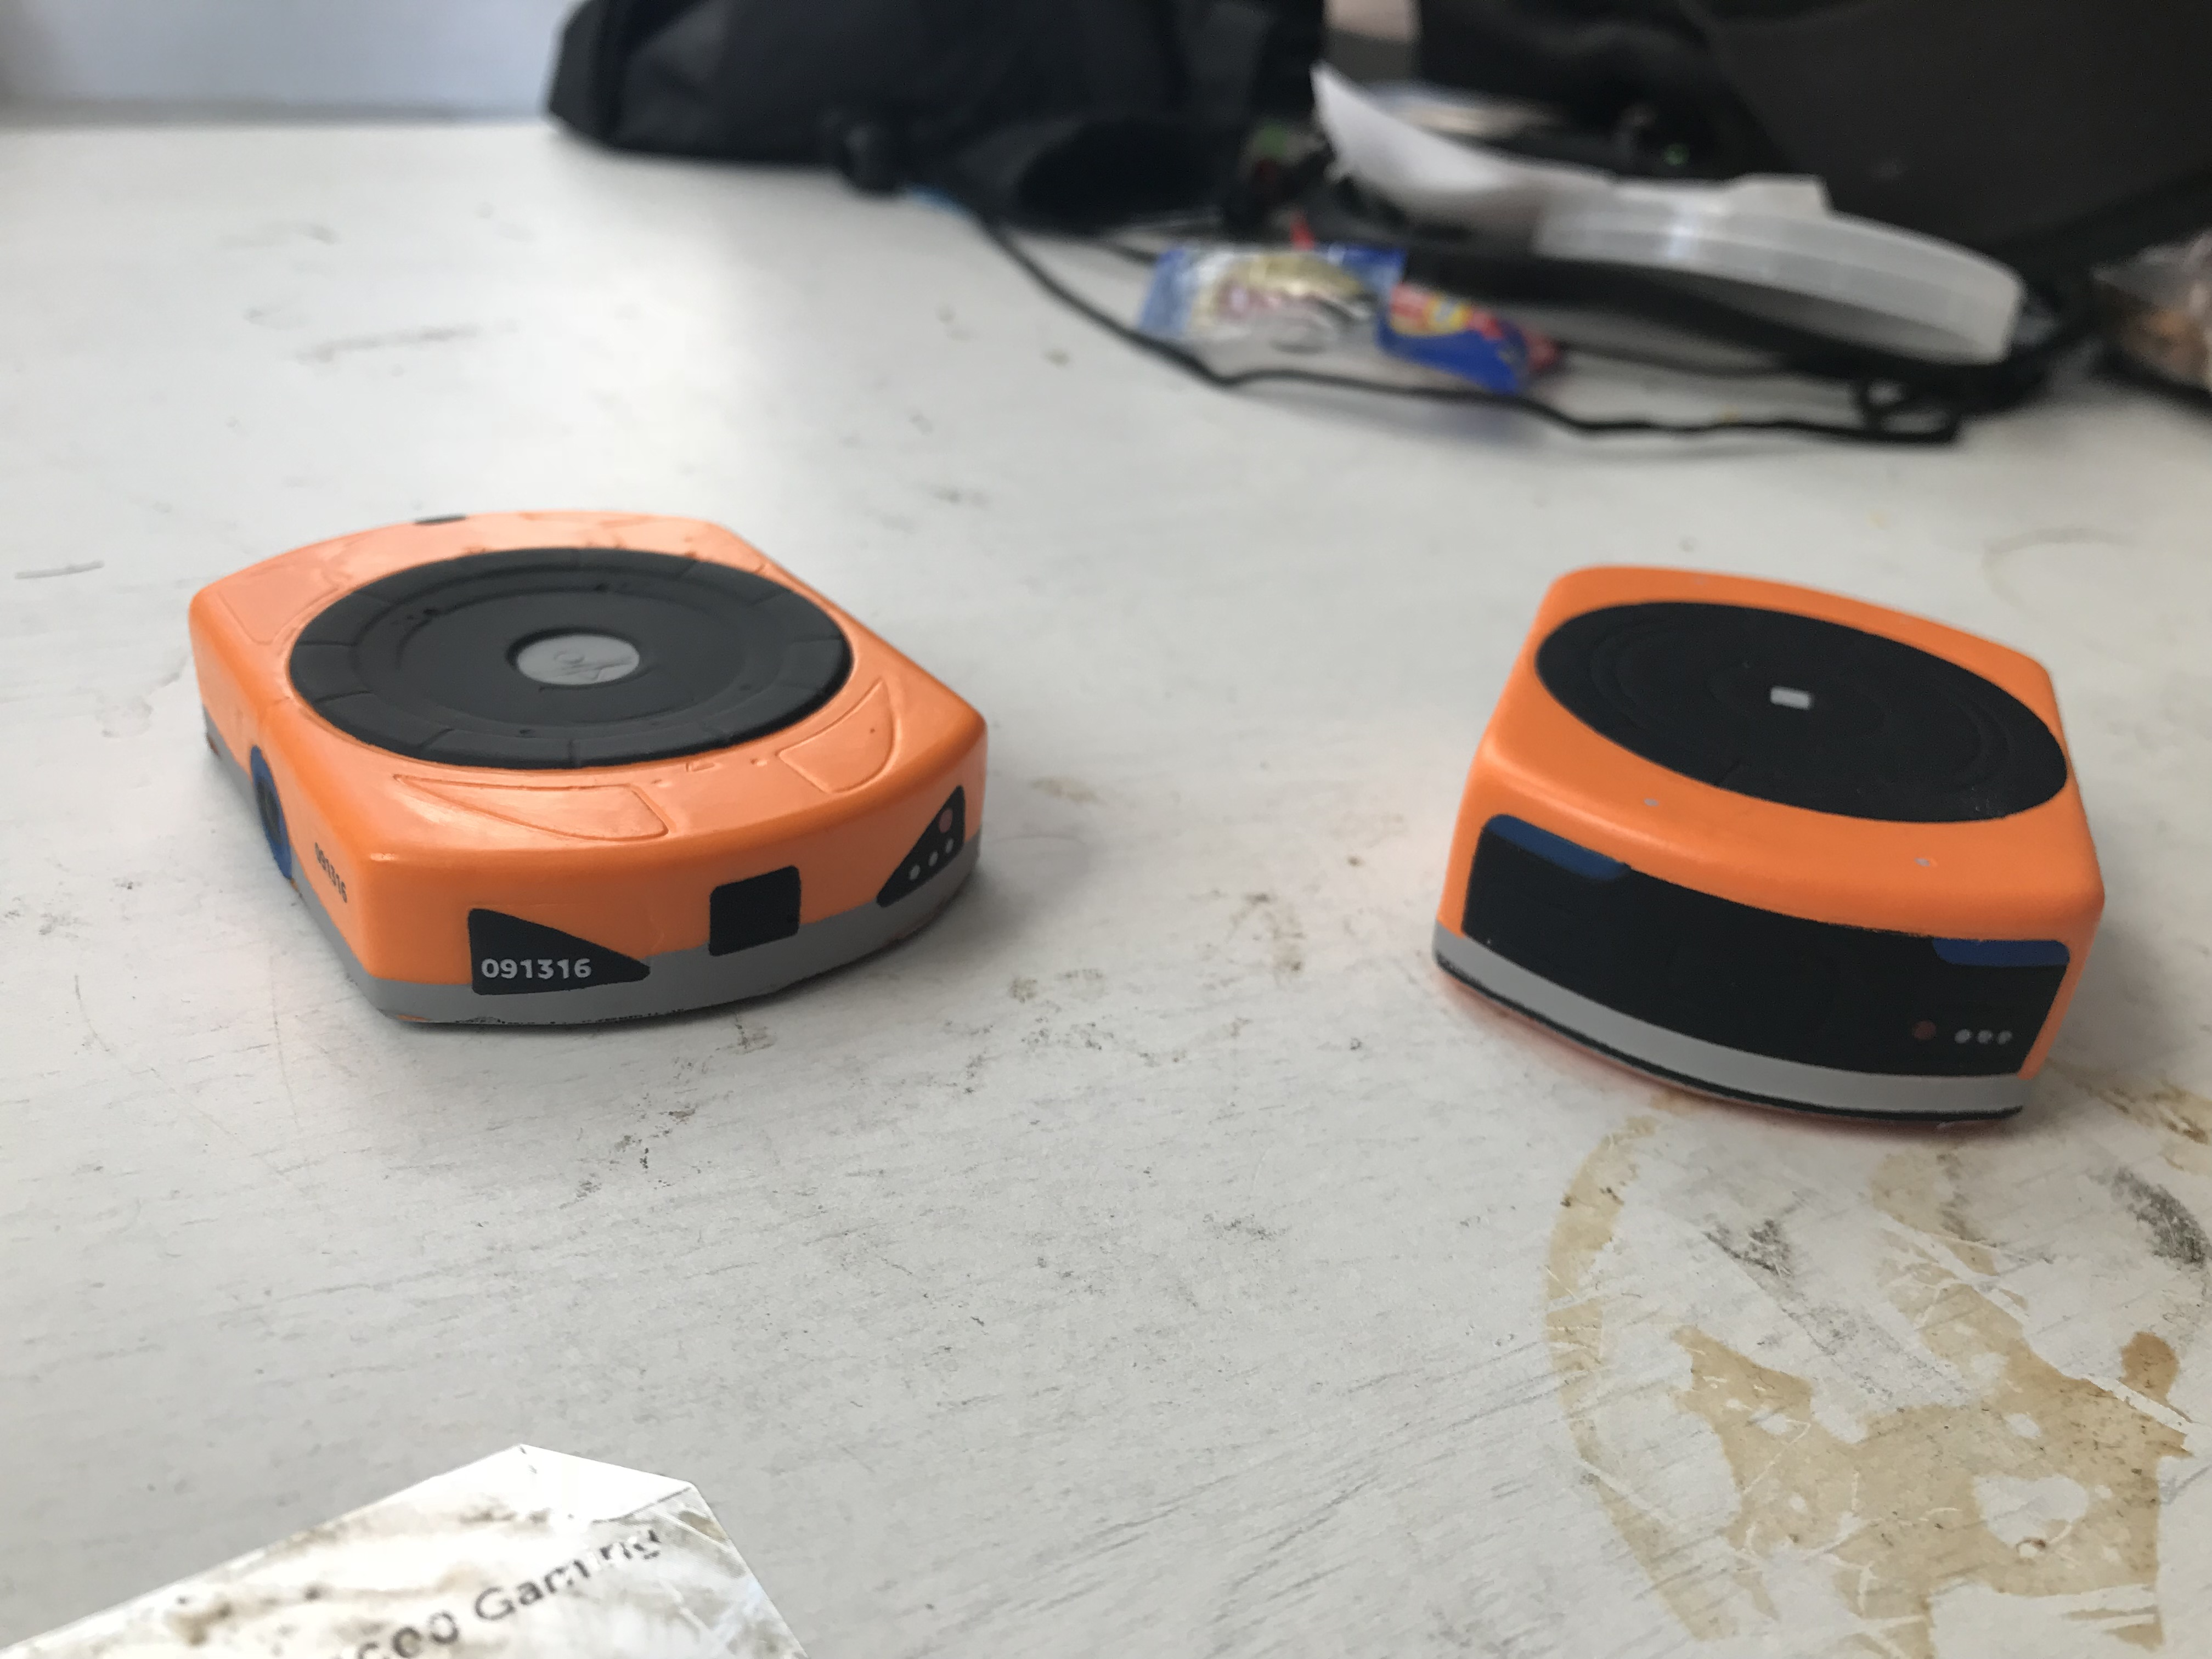amazon_bot: (148, 469, 1036, 1066), (1402, 518, 2130, 1155)
